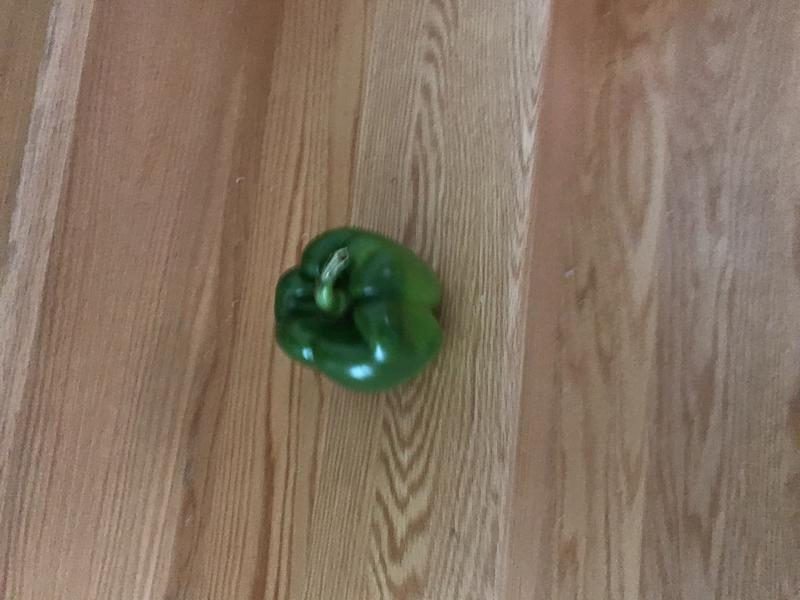green_pepper: (266, 217, 453, 397)
